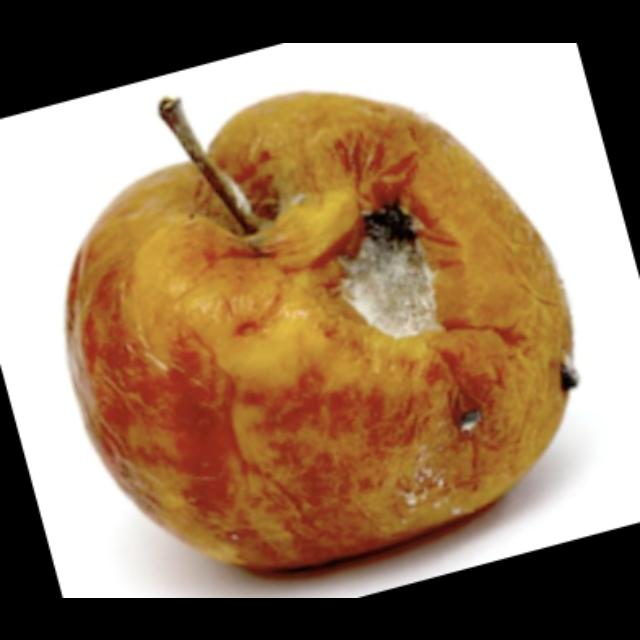Apel Tidak Segar: (58, 85, 584, 583)
